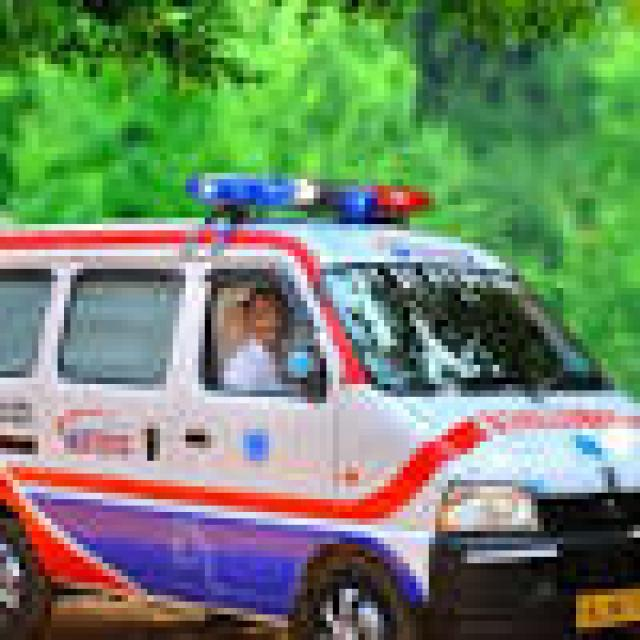ambulance: (0, 156, 640, 630)
